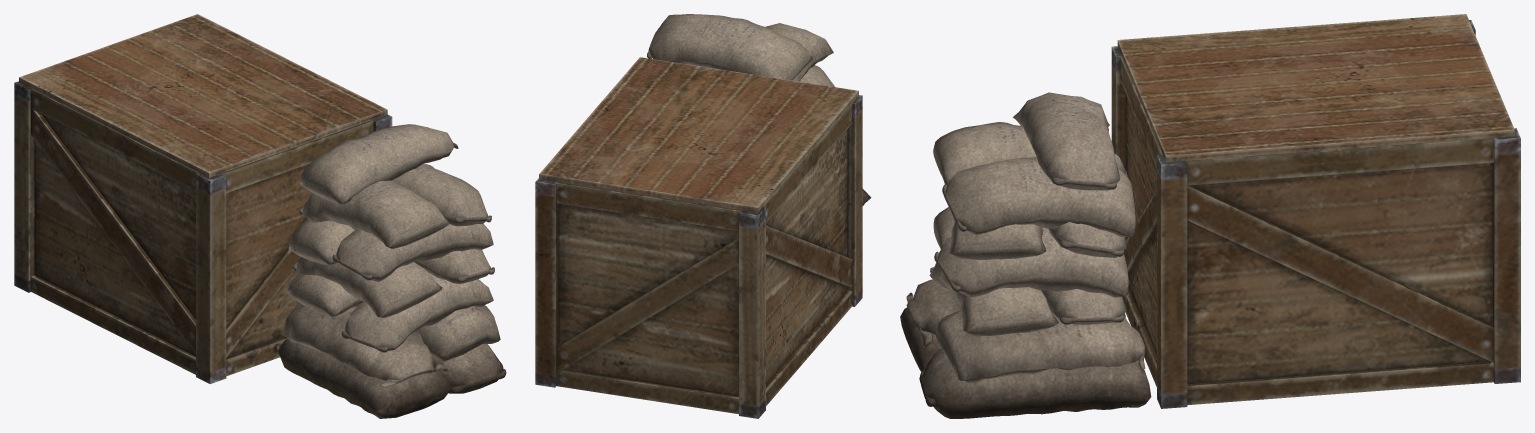
The model's file is SM_FAR_Blocker_02_Merged.fbx.
3 renders of one model, left to right at view 1: azimuth 30°, elevation 25°; view 2: azimuth 150°, elevation 25°; view 3: azimuth 270°, elevation 25°, orthographic. The views are drawn at different scales.
Visible parts, largest first — view 1: SM_FAR_Blocker_02_Merged.mo; view 2: SM_FAR_Blocker_02_Merged.mo; view 3: SM_FAR_Blocker_02_Merged.mo.
Part boxes in pixels (x1,y1,x2,y2): SM_FAR_Blocker_02_Merged.mo: [14, 14, 506, 418]; SM_FAR_Blocker_02_Merged.mo: [535, 14, 871, 418]; SM_FAR_Blocker_02_Merged.mo: [900, 14, 1520, 418].
Size of the model in its own units: 122 by 98.04 by 199.
